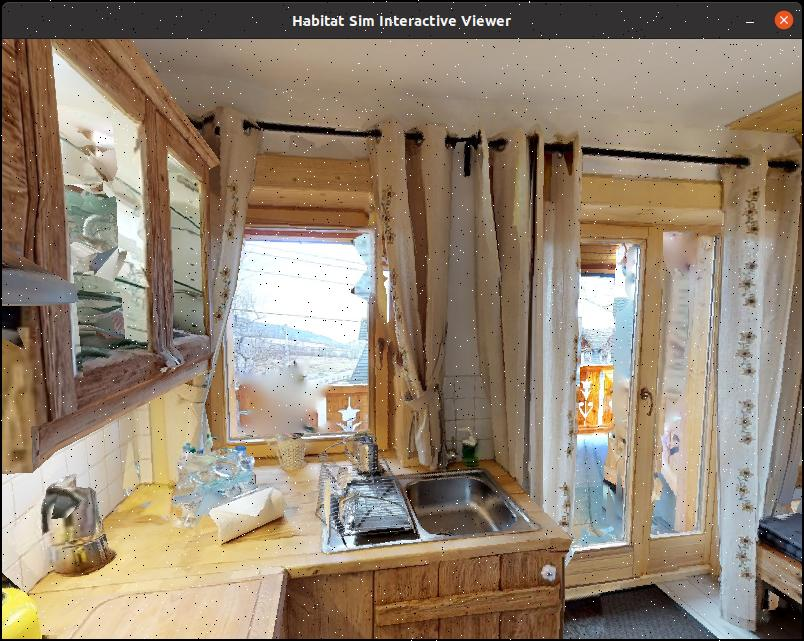sink: (386, 377, 540, 571)
table: (0, 443, 590, 641)
